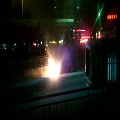fire: (44, 57, 60, 78)
